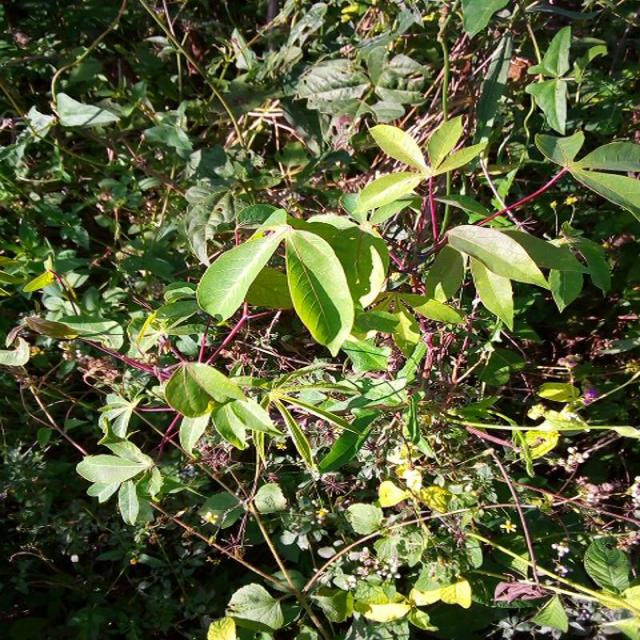cassava leaf: (195, 206, 390, 357), (284, 228, 354, 358)
